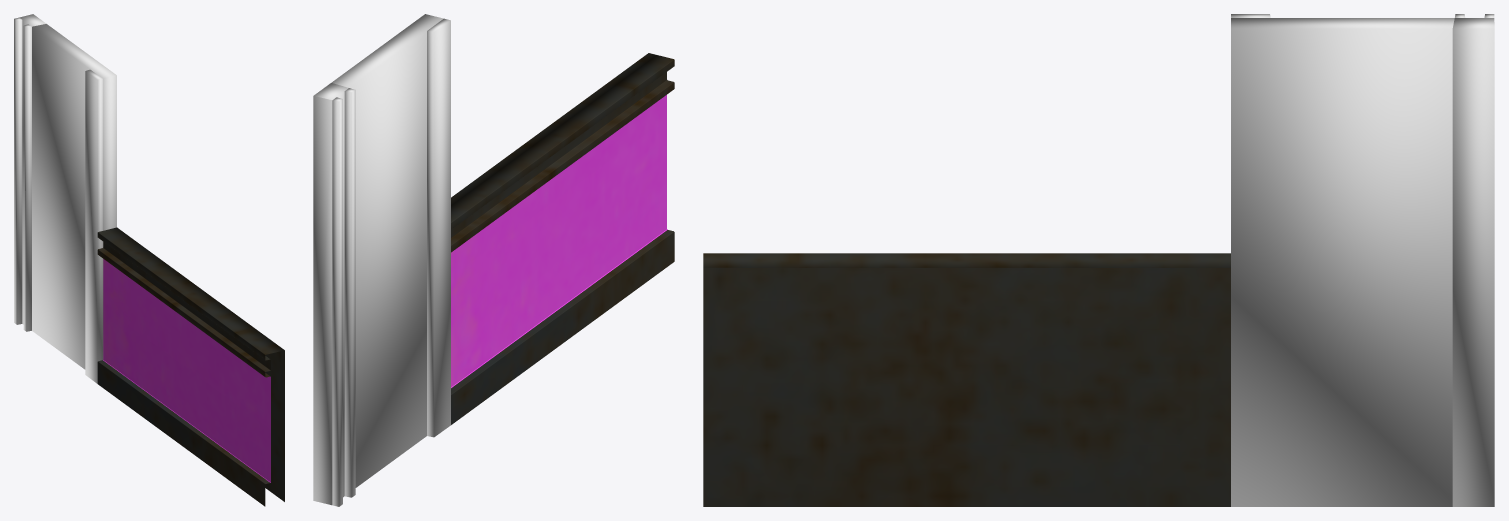
File: SM_Wall_Basic_Low.fbx
The picture shows the model from 3 angles, left to right: view 1: azimuth 30°, elevation 25°; view 2: azimuth 150°, elevation 25°; view 3: azimuth 270°, elevation 25°; orthographic projection. The views are drawn at different scales.
Visible parts, largest first — view 1: SM_Wall_Basic_Low, SM_Wall_Basic_Low_ConvexHulls; view 2: SM_Wall_Basic_Low_ConvexHulls, SM_Wall_Basic_Low; view 3: SM_Wall_Basic_Low, SM_Wall_Basic_Low_ConvexHulls.
Boxes of the visible parts, left/top/right/bottom form: SM_Wall_Basic_Low: left=97, top=227, right=284, bottom=506; SM_Wall_Basic_Low_ConvexHulls: left=14, top=14, right=116, bottom=383; SM_Wall_Basic_Low_ConvexHulls: left=313, top=14, right=450, bottom=506; SM_Wall_Basic_Low: left=451, top=53, right=674, bottom=424; SM_Wall_Basic_Low: left=703, top=253, right=1230, bottom=506; SM_Wall_Basic_Low_ConvexHulls: left=1231, top=14, right=1494, bottom=506.
Bounding box in the file's own units: 0.2 × 3 × 4.5.
